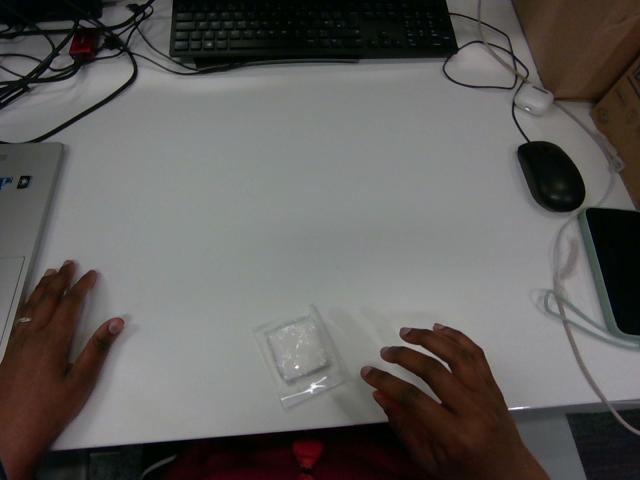gauze: (254, 305, 345, 407)
